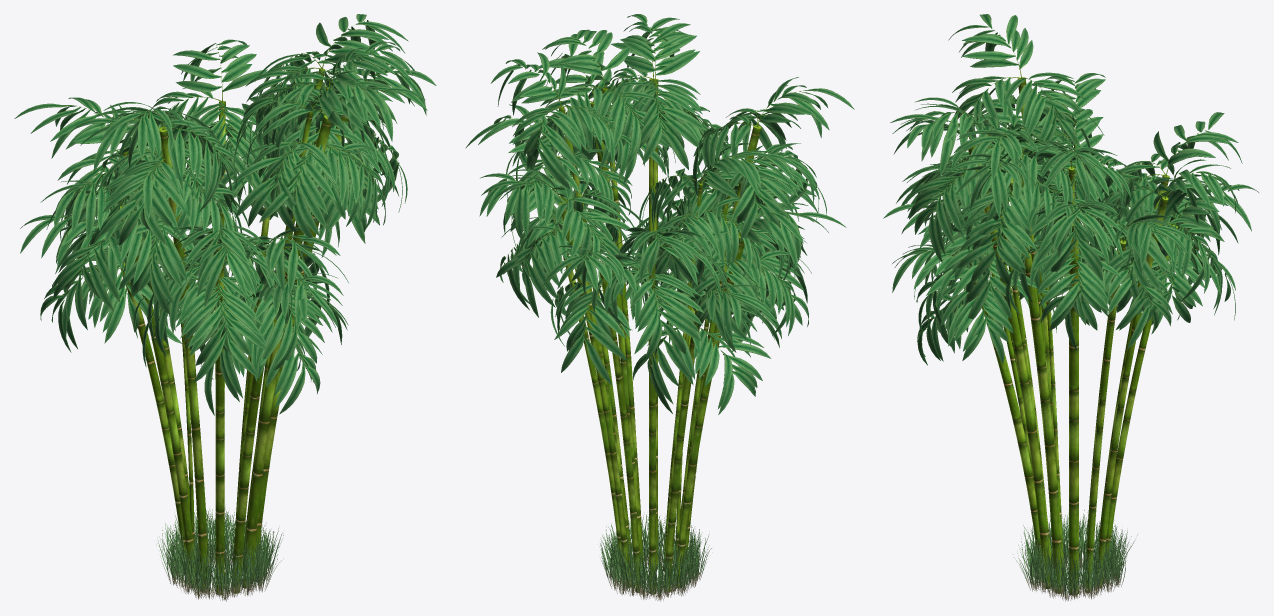
File: Bamboo Tree.fbx
3 renders of one model, left to right at view 1: azimuth 30°, elevation 25°; view 2: azimuth 150°, elevation 25°; view 3: azimuth 270°, elevation 25°, orthographic. The views are drawn at different scales.
Visible parts, largest first — view 1: bamboo_tree; view 2: bamboo_tree; view 3: bamboo_tree.
Boxes of the visible parts, <box> form: bamboo_tree: <box>14,14,436,601</box>; bamboo_tree: <box>465,14,854,601</box>; bamboo_tree: <box>883,14,1258,601</box>.
Size of the model in its own units: 312 by 431 by 291.
